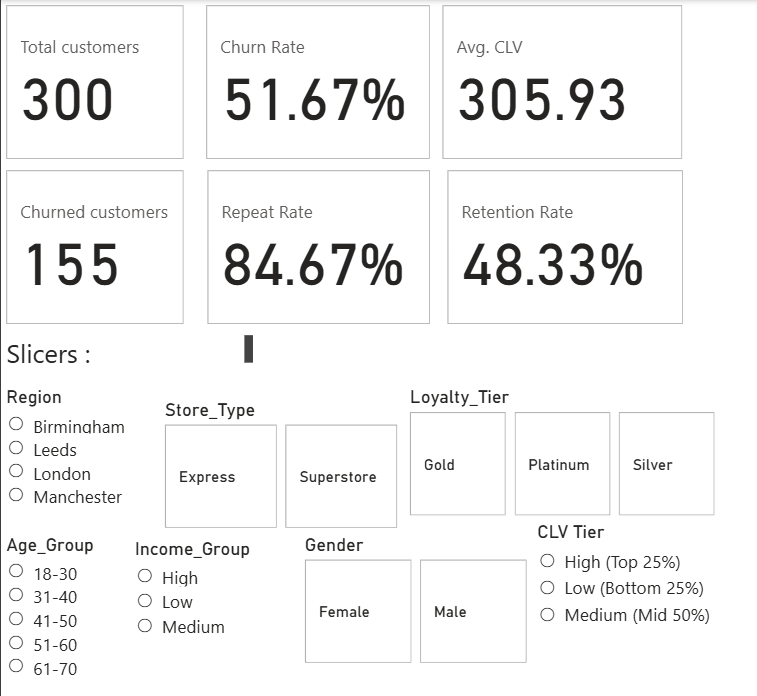

What the dashboard file says about the page in this screenshot:
{"tool":"powerbi","page":{"name":"Dashboard1","canvas":[1280,720],"ordinal":6},"visuals":[{"type":"cardVisual","fields":{"Data":["Measures (2).Churn Rate"]},"box":[186,0,218.6,153.5],"z":0},{"type":"cardVisual","fields":{"Data":["Measures (2).Repeat Rate"]},"box":[187.2,153.5,217.4,153.5],"z":1000},{"type":"cardVisual","fields":{"Data":["Measures (2).Avg. CLV"]},"box":[405.8,0,233.7,153.5],"z":2000},{"type":"cardVisual","fields":{"Data":["Measures (2).Retention Rate"]},"box":[410.5,153.5,229.1,153.5],"z":3000},{"type":"cardVisual","fields":{"Data":["Measures (2).Total customers"]},"box":[0,0,175.6,153.5],"z":4000},{"type":"cardVisual","fields":{"Data":["Measures (2).Churned customers"]},"box":[0,153.5,175.6,153.5],"z":5000},{"type":"listSlicer","fields":{"Values":["Store_Locations.Region"]},"box":[0,330.2,158.1,207],"z":6000},{"type":"advancedSlicerVisual","fields":{"Values":["Store_Locations.Store_Type"]},"box":[131.4,330.2,227.9,125.6],"z":7000},{"type":"advancedSlicerVisual","fields":{"Values":["Customer_Demographics.Gender"]},"box":[277.9,474.4,216.3,125.6],"z":8000},{"type":"advancedSlicerVisual","fields":{"Values":["Loyalty_Program.Loyalty_Tier"]},"box":[368.6,330.2,295.3,125.6],"z":9000},{"type":"listSlicer","fields":{"Values":["Customer_Demographics.CLV Tier"]},"box":[502.3,468.6,194.2,251.2],"z":10000},{"type":"listSlicer","fields":{"Values":["Customer_Demographics.Age_Group"]},"box":[0,482.6,158.1,207],"z":11000},{"type":"listSlicer","fields":{"Values":["Customer_Demographics.Income_Group"]},"box":[119.8,474.4,158.1,219.8],"z":12000}]}

Visuals, with their boxes on the page's 1280x720 design canvas (x1, y1, x2, y2). These are canvas units, not pixel positions in the 757x696 screenshot, which may show the page scaled, cropped or inside an application window:
cardVisual - Measures (2).Churn Rate: box=[186, 0, 405, 154]
cardVisual - Measures (2).Repeat Rate: box=[187, 154, 405, 307]
cardVisual - Measures (2).Avg. CLV: box=[406, 0, 640, 154]
cardVisual - Measures (2).Retention Rate: box=[410, 154, 640, 307]
cardVisual - Measures (2).Total customers: box=[0, 0, 176, 154]
cardVisual - Measures (2).Churned customers: box=[0, 154, 176, 307]
listSlicer - Store_Locations.Region: box=[0, 330, 158, 537]
advancedSlicerVisual - Store_Locations.Store_Type: box=[131, 330, 359, 456]
advancedSlicerVisual - Customer_Demographics.Gender: box=[278, 474, 494, 600]
advancedSlicerVisual - Loyalty_Program.Loyalty_Tier: box=[369, 330, 664, 456]
listSlicer - Customer_Demographics.CLV Tier: box=[502, 469, 696, 720]
listSlicer - Customer_Demographics.Age_Group: box=[0, 483, 158, 690]
listSlicer - Customer_Demographics.Income_Group: box=[120, 474, 278, 694]
